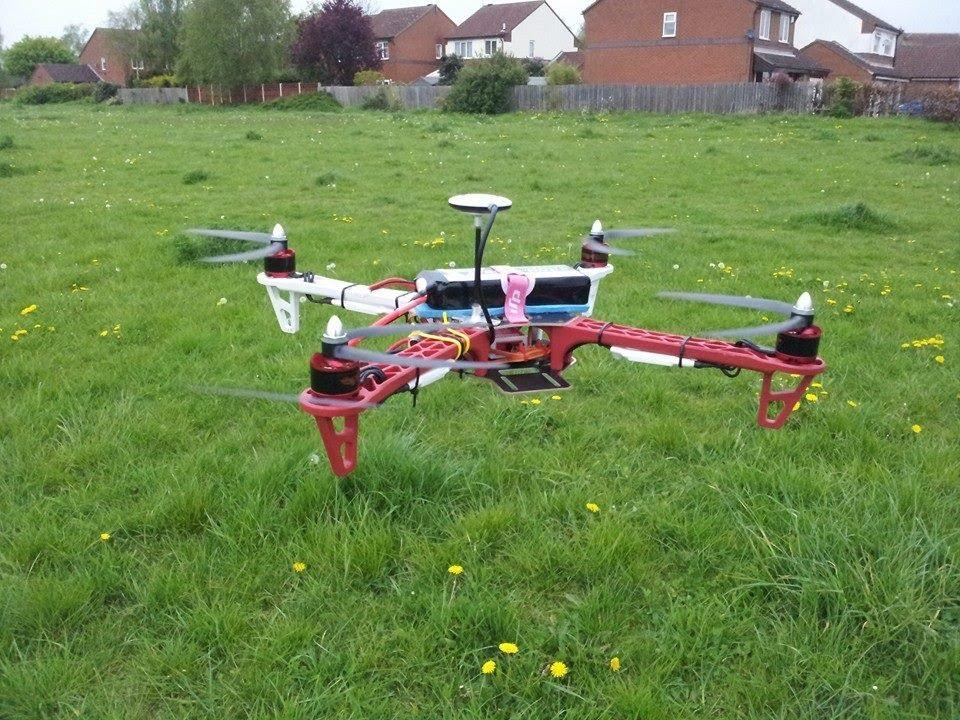drone: (160, 179, 893, 509)
